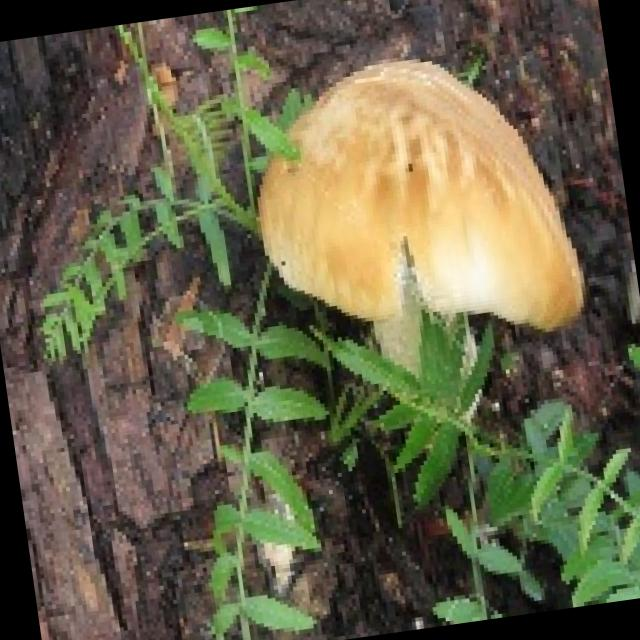mushroom: (232, 31, 624, 496)
